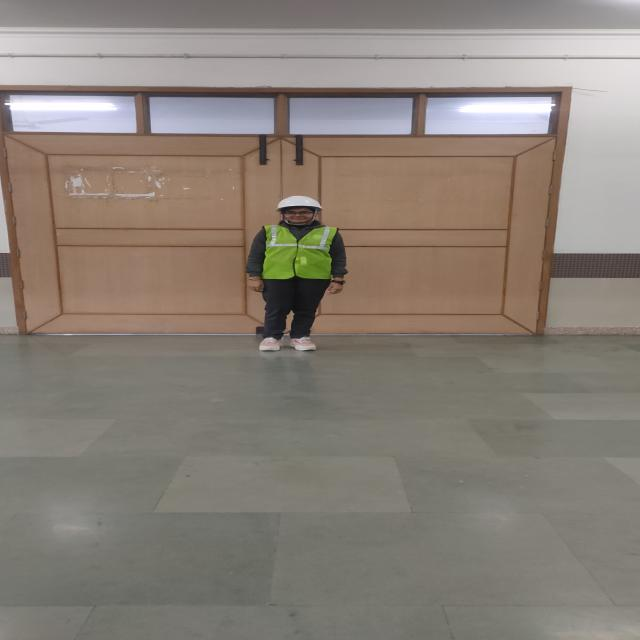safe: (262, 196, 339, 351)
